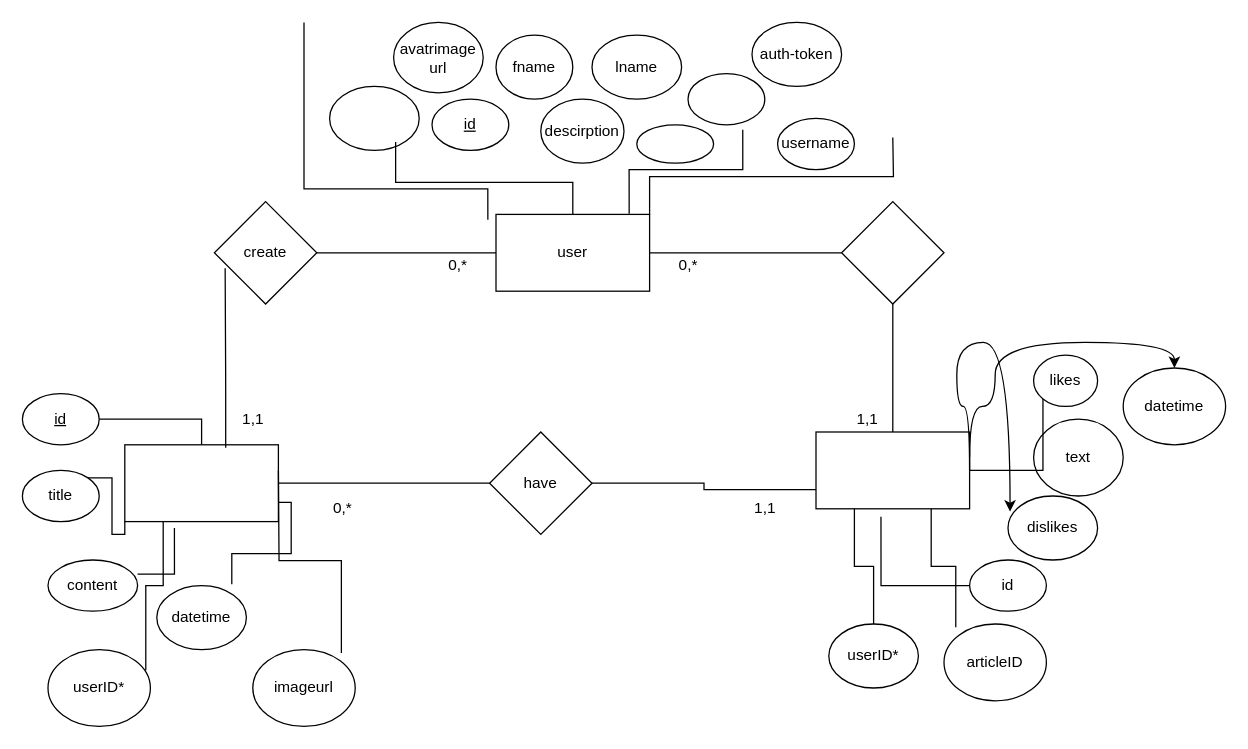
Some shapes in this 1248 by 749 pixel diagram are drawn without their labels. Here are the shapes that lost their labels. From the top down, the box of each, then its label:
(328, 85, 419, 150): hased password
(687, 72, 765, 125): DOB
(636, 124, 714, 163): salt
(840, 200, 944, 304): leave
(124, 444, 278, 522): article
(815, 431, 970, 509): comment
